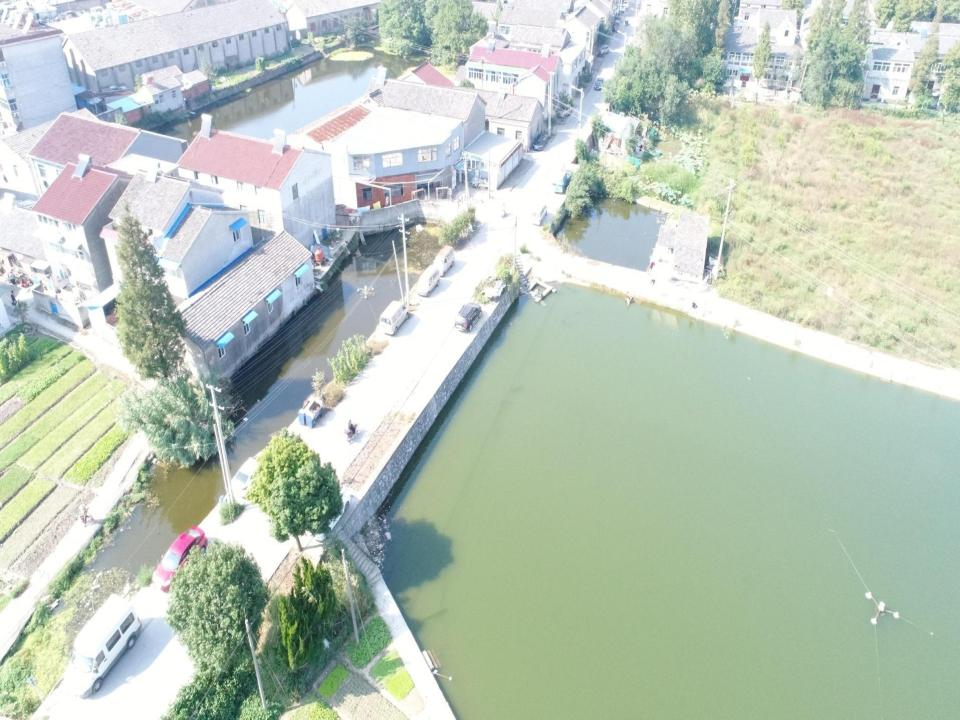car: (152, 526, 208, 593), (228, 447, 278, 501), (454, 302, 481, 332), (532, 132, 548, 151), (594, 78, 604, 90), (599, 45, 610, 55), (612, 20, 621, 31)
truck: (552, 162, 575, 193)
van: (62, 593, 142, 700), (379, 300, 409, 336), (416, 264, 440, 296), (432, 245, 455, 277), (530, 204, 548, 225), (556, 103, 572, 119)
